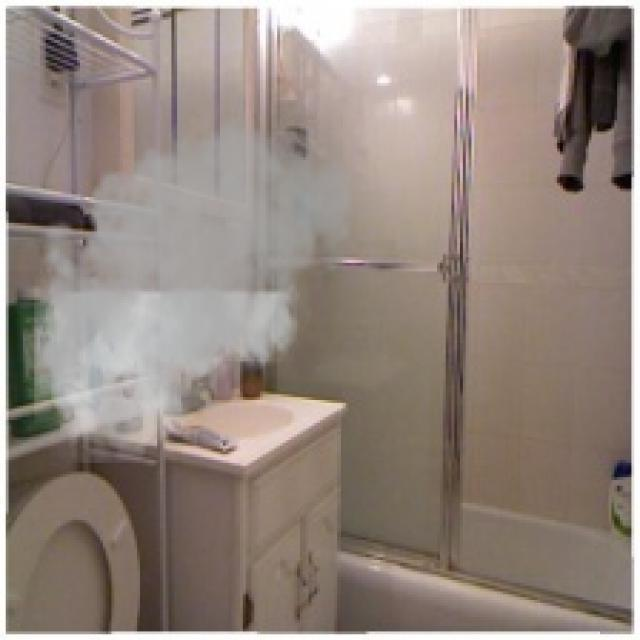Smoke: (20, 100, 363, 463)
